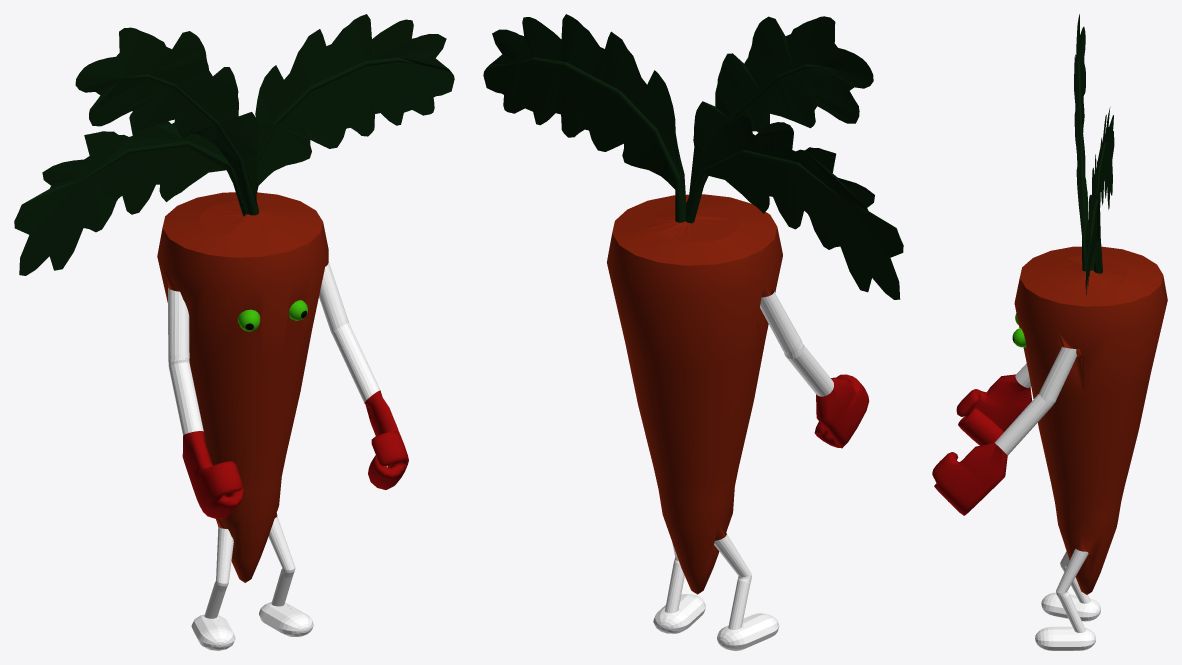
The model's file is Carotte.FBX.
3 renders of one model, left to right at view 1: azimuth 30°, elevation 25°; view 2: azimuth 150°, elevation 25°; view 3: azimuth 270°, elevation 25°, orthographic. The views are drawn at different scales.
Parts seen in each view (by area): view 1: Sphere001; view 2: Sphere001; view 3: Sphere001.
Boxes of the visible parts, <box> form: Sphere001: <box>14,14,454,650</box>; Sphere001: <box>483,14,903,650</box>; Sphere001: <box>932,14,1167,650</box>.
Bounding box in the file's own units: 114 × 163 × 61.28.
